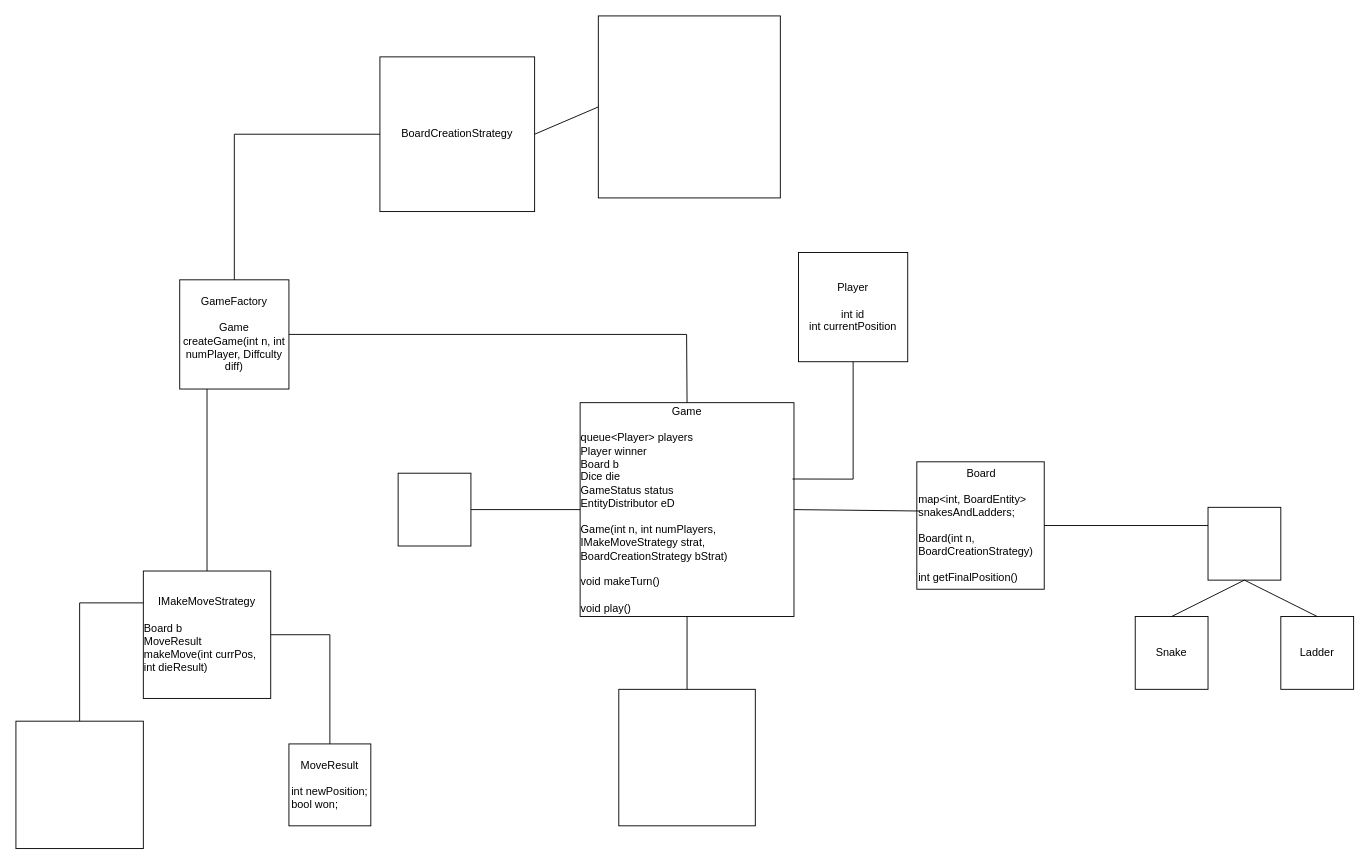
Some shapes in this 1370 by 865 pixel diagram are drawn without their labels. The box of each missing label's shape, as (x1, y1, x2, y2) in pixels:
BoardEntity int start; int end;: (1207, 506, 1281, 580)
Dice int roll(): (397, 472, 471, 546)
EasyMakeMoveStrategy Board b MoveResult makeMove(int currPos, int dieResult): (15, 720, 143, 849)
GameStatus NOT_STARTED RUNNING FINISHED: (618, 688, 755, 826)
SimpleRandomBoardCreation: (597, 15, 780, 198)
